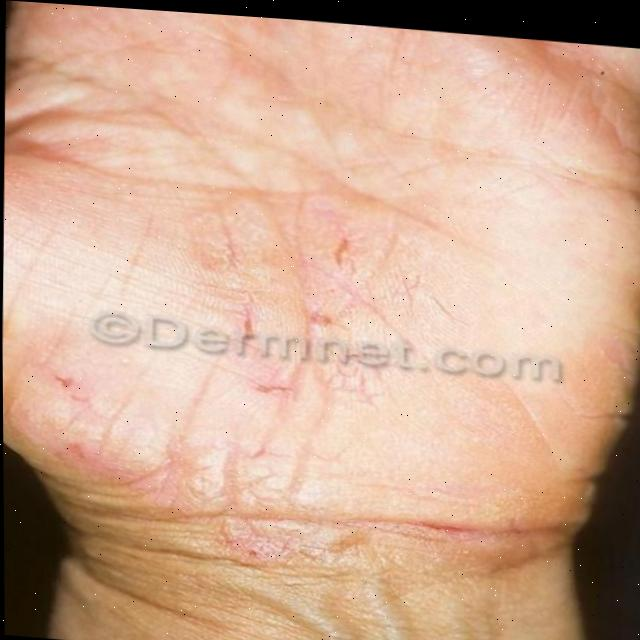Eczema: (40, 173, 399, 583)
